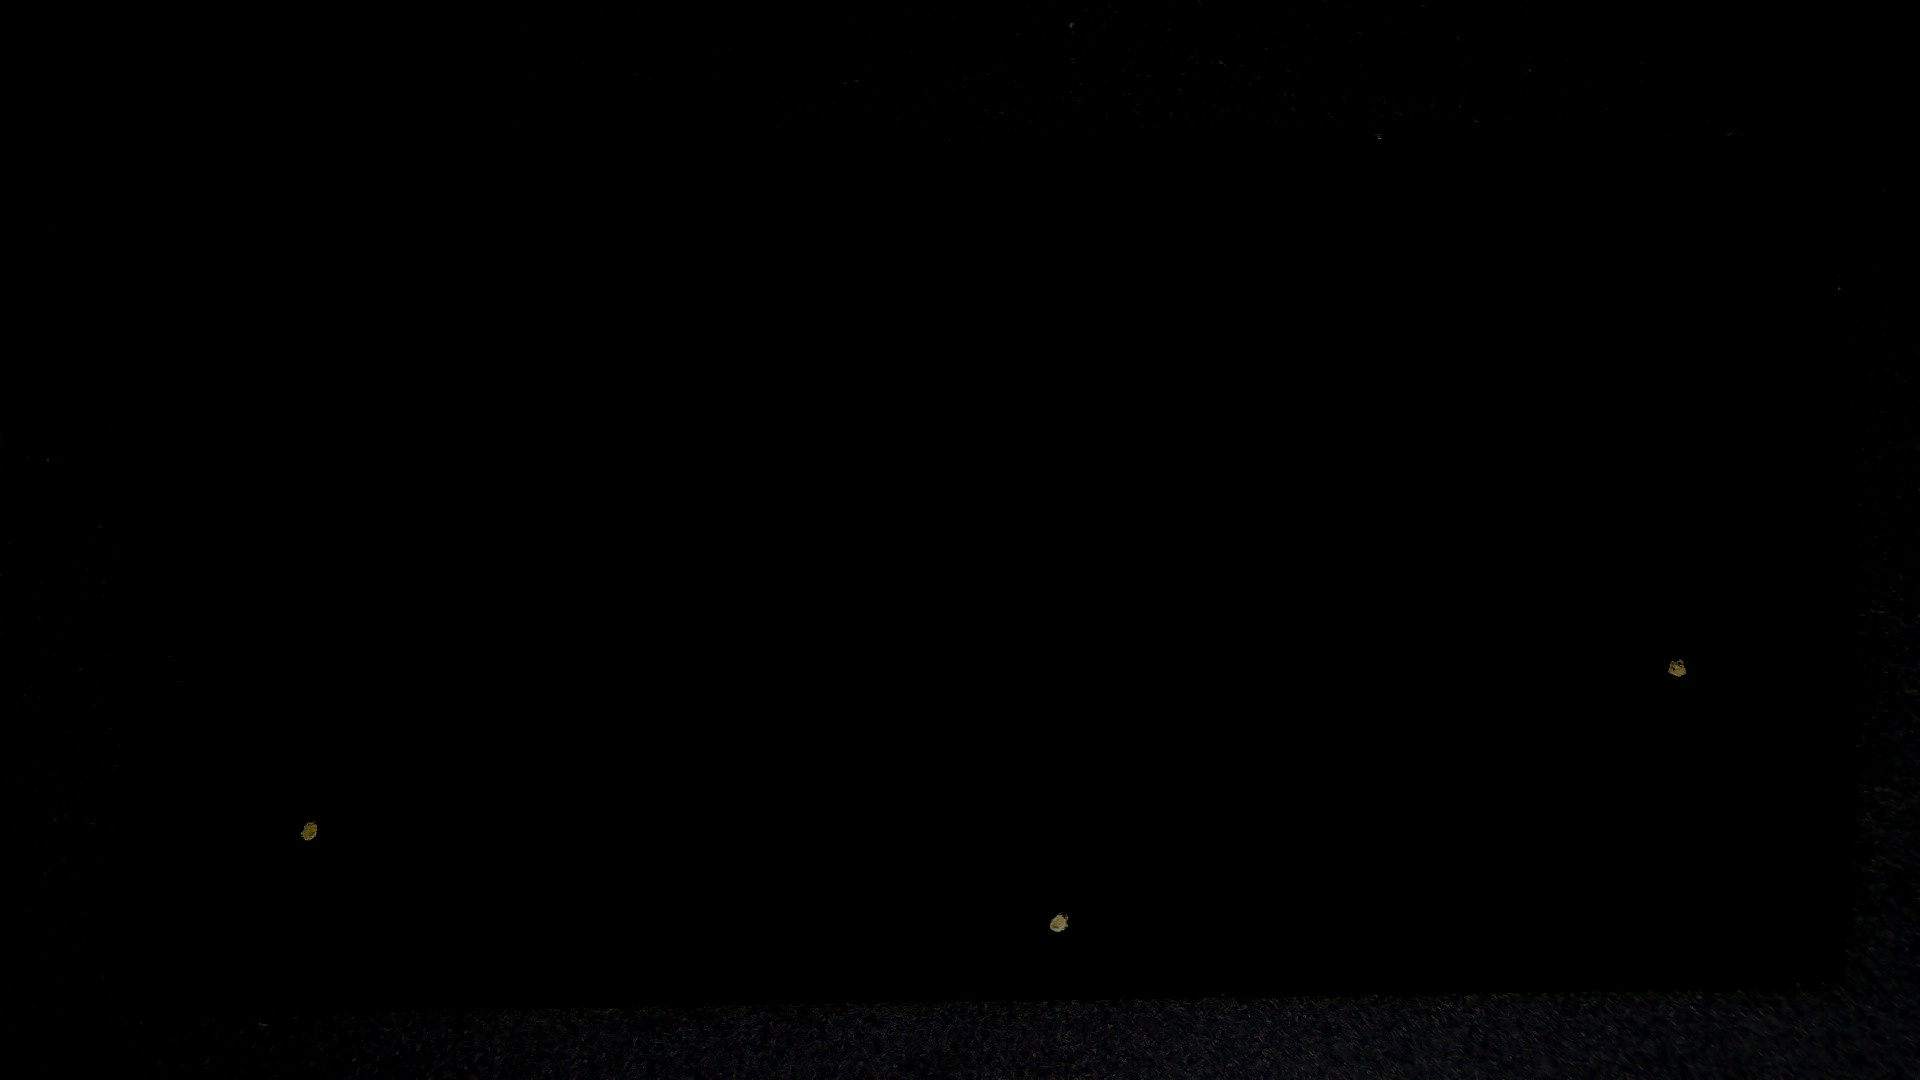oil: (841, 327, 1920, 984), (531, 454, 1590, 1080), (156, 409, 465, 1080)
